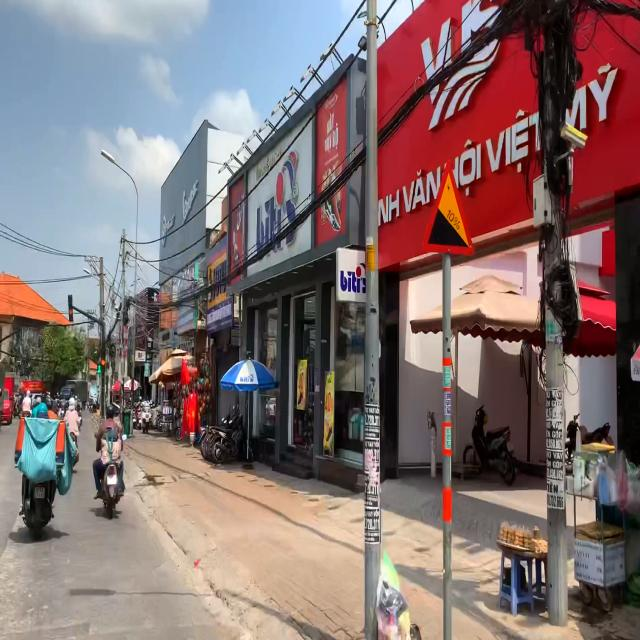Nguy hiem: (421, 160, 475, 258)
